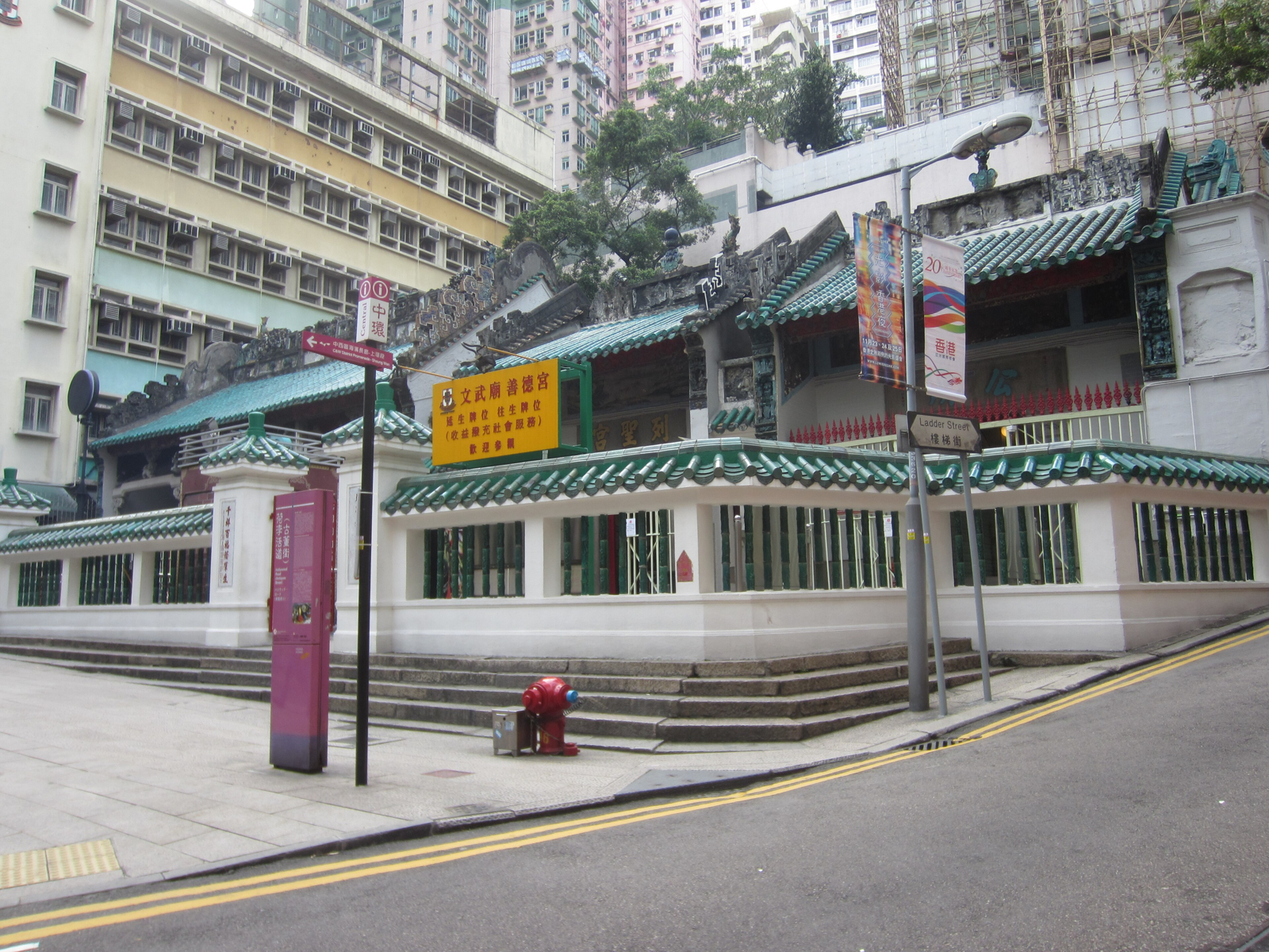fachada: (0, 204, 1269, 611), (3, 0, 563, 410), (238, 0, 603, 153), (608, 0, 822, 130)
poste: (899, 77, 1034, 709), (341, 278, 402, 788)
